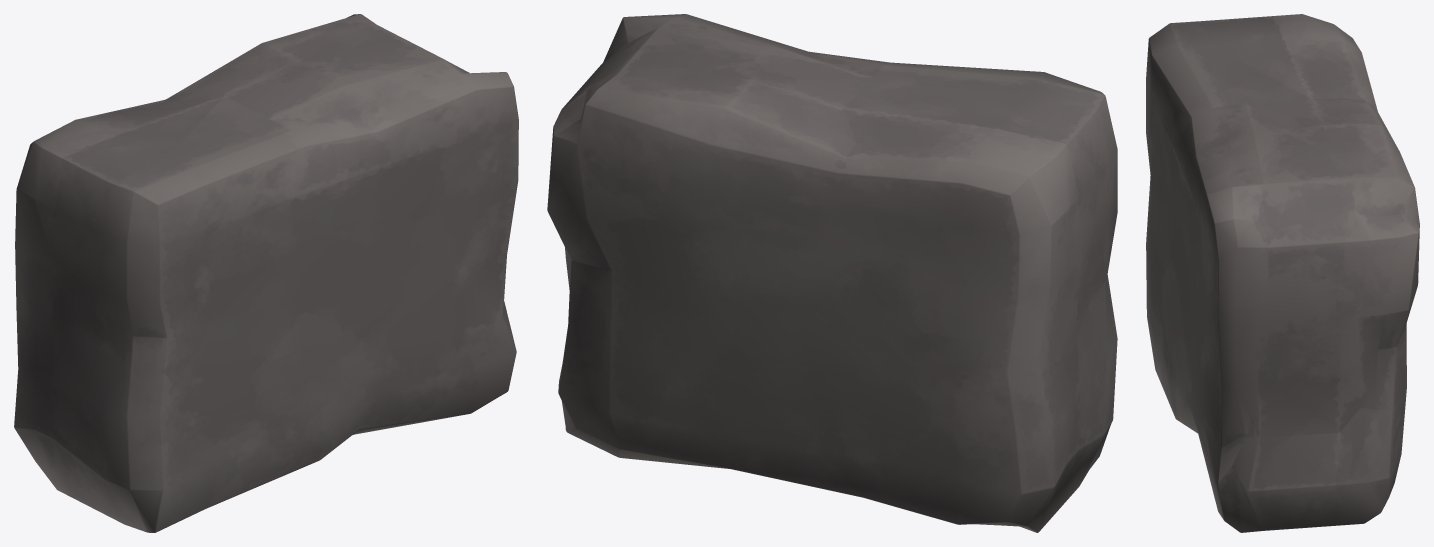
File: stone1Prop.fbx
3 views of the same model, side by side, from view 1: azimuth 30°, elevation 25°; view 2: azimuth 150°, elevation 25°; view 3: azimuth 270°, elevation 25° (orthographic). The views are drawn at different scales.
Parts seen in each view (by area): view 1: stone1.001; view 2: stone1.001; view 3: stone1.001.
Boxes of the visible parts, left/top/right/bottom form: stone1.001: left=14, top=14, right=518, bottom=532; stone1.001: left=547, top=14, right=1117, bottom=532; stone1.001: left=1146, top=14, right=1419, bottom=532.
Bounding box in the file's own units: 61.8 × 46.92 × 33.49.
